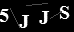5: (1, 8, 9, 23)
J: (18, 14, 29, 29), (38, 10, 49, 25)
S: (58, 5, 70, 20)
